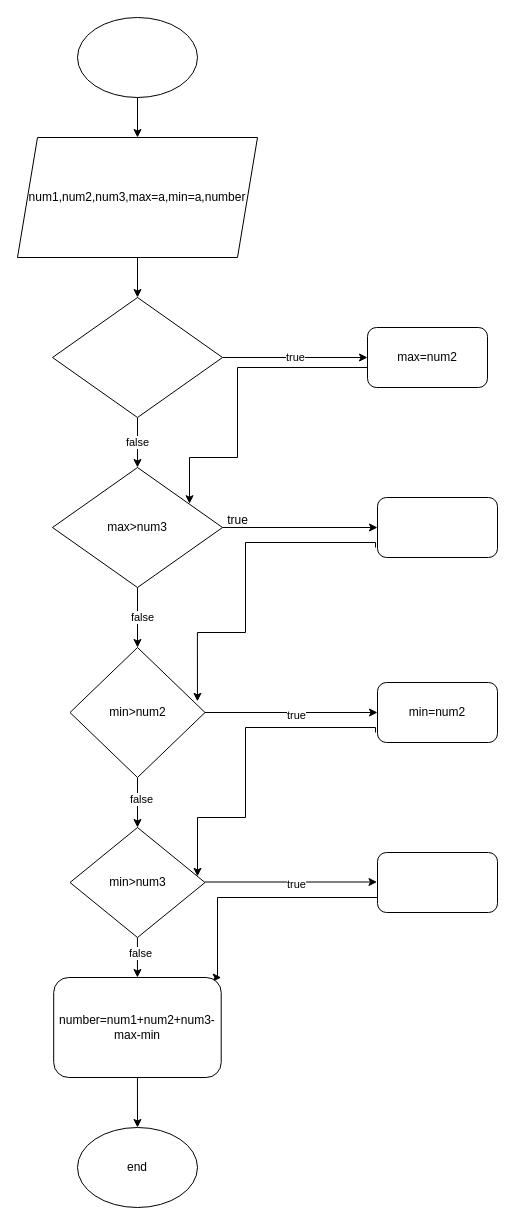
The diagram is 515 pixels wide and 1225 high, and some of its shapes have lost their labels. Here are the shapes that lost their labels. From the top down, the centre of each, then its label:
[137,57]: start
[137,357]: max>num2
[437,527]: max=num3
[437,882]: min=num3
